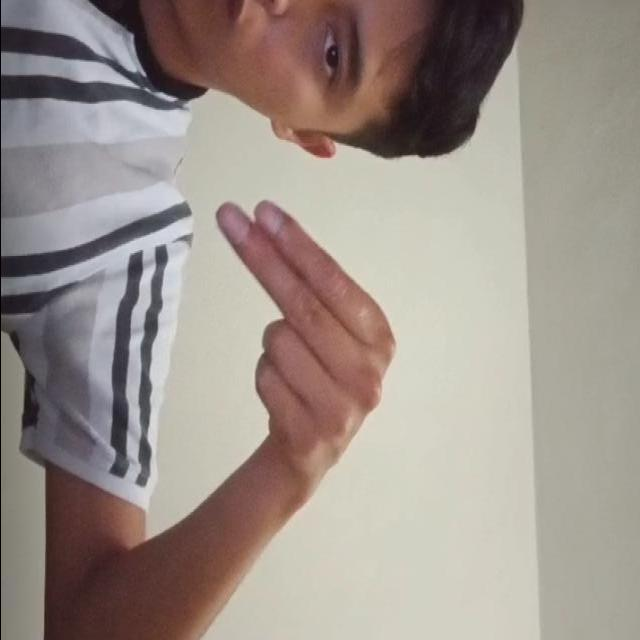N: (190, 155, 406, 508)
